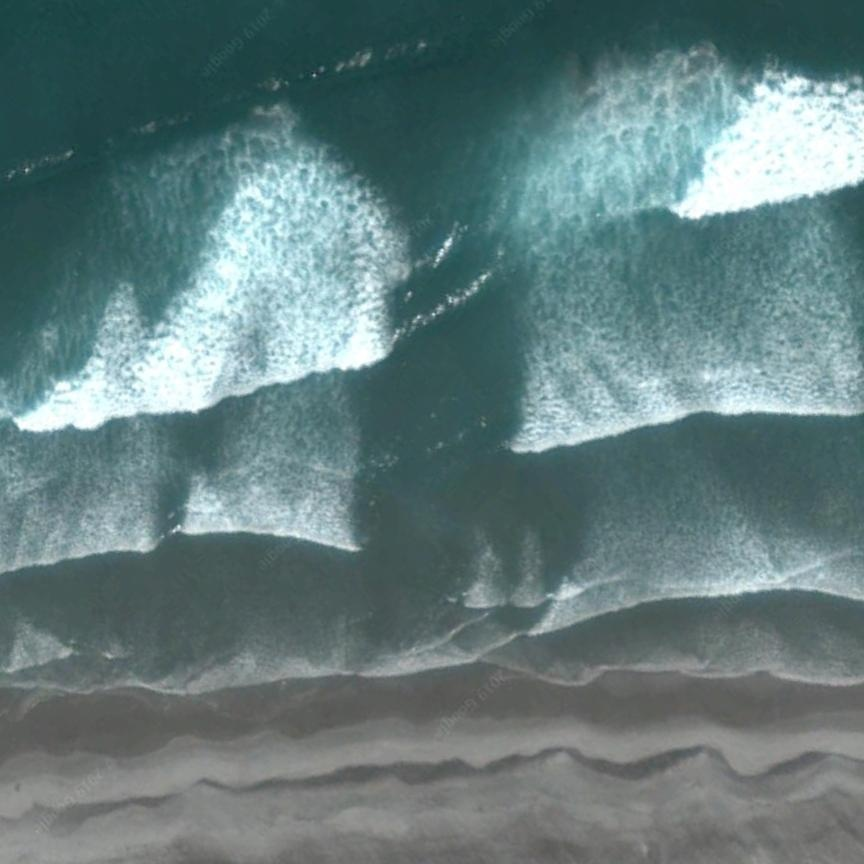rip_current: (290, 86, 583, 601)
